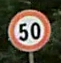limite 50: (6, 8, 51, 51)
